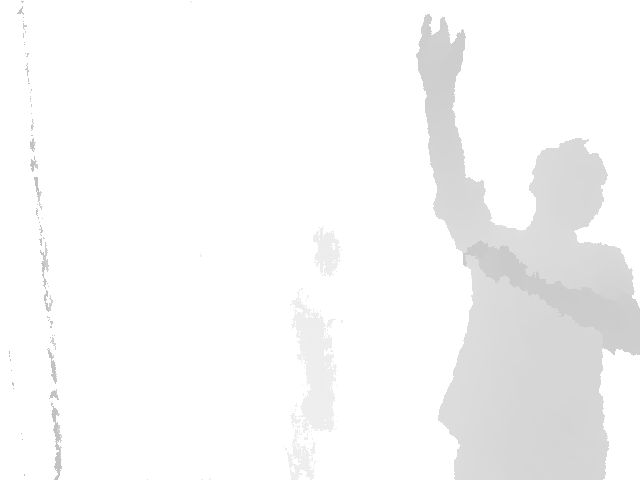hand: (416, 14, 468, 92)
head: (527, 137, 608, 241)
person: (417, 14, 640, 480)
